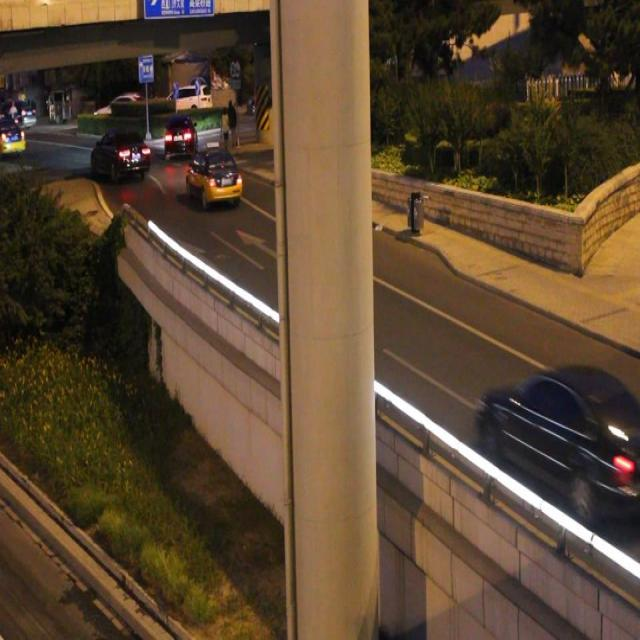car: (477, 363, 640, 522), (185, 140, 242, 206)
